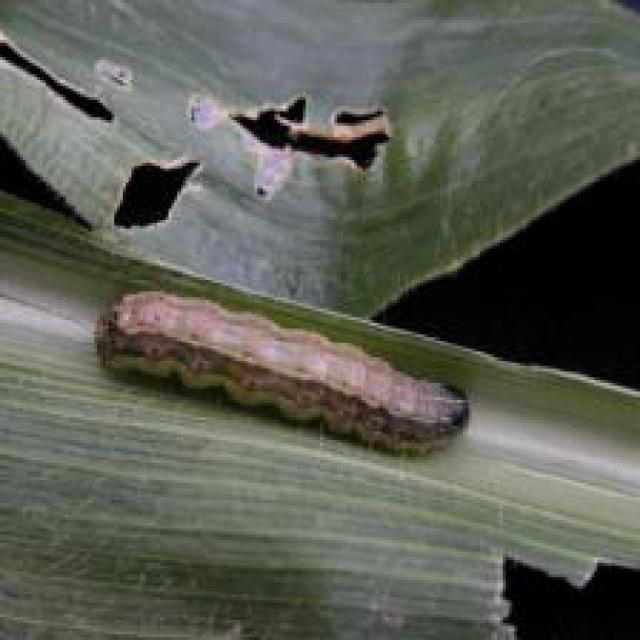Plaga: (80, 258, 491, 510)
